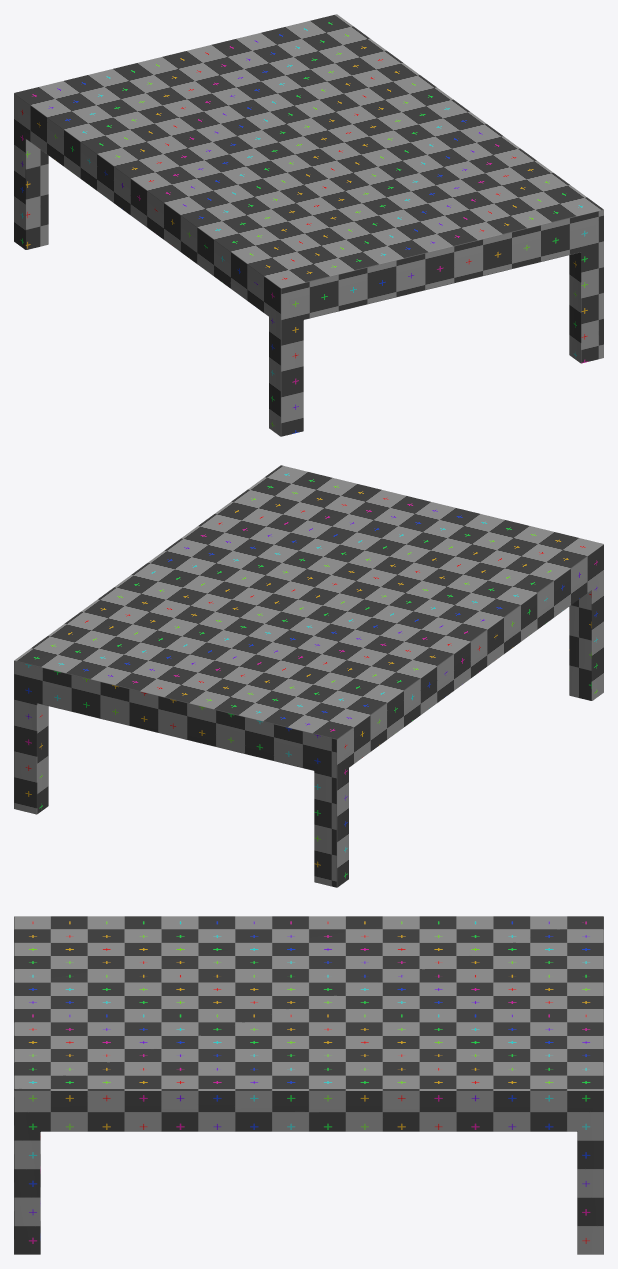
The model's file is Table.glb.
3 views of the same model, one above another, from view 1: azimuth 30°, elevation 25°; view 2: azimuth 150°, elevation 25°; view 3: azimuth 270°, elevation 25° (orthographic). The views are drawn at different scales.
Visible parts, largest first — view 1: Cube.003; view 2: Cube.003; view 3: Cube.003.
Part boxes in pixels (bbox=[...]): Cube.003: bbox=[14, 14, 603, 436]; Cube.003: bbox=[14, 465, 603, 887]; Cube.003: bbox=[14, 916, 603, 1254].
Size of the model in its own units: 1.4 by 0.6142 by 2.
1 material, 1 textured.
